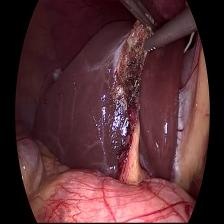Grasper: (117, 0, 161, 33)
Irrigator: (142, 28, 173, 57)
